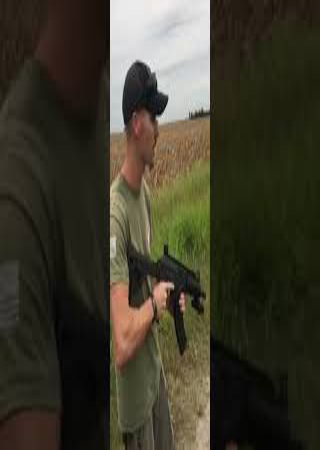rifle: (119, 233, 209, 356)
